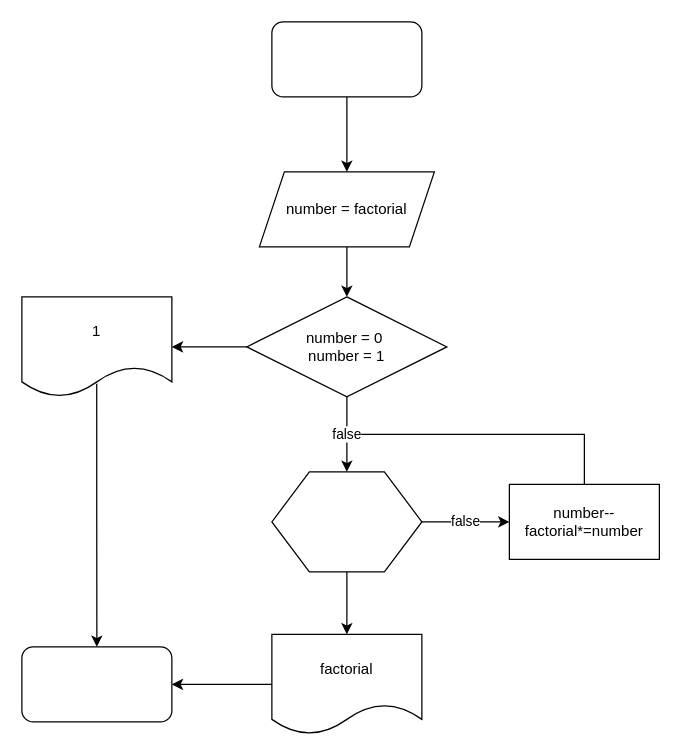
The diagram is 681 pixels wide and 756 high, and some of its shapes have lost their labels. Here are the shapes that lost their labels. From the top down, the centre of each, then its label:
At (x=346, y=59): "start".
At (x=346, y=521): "number = 1".
At (x=96, y=684): "end".
